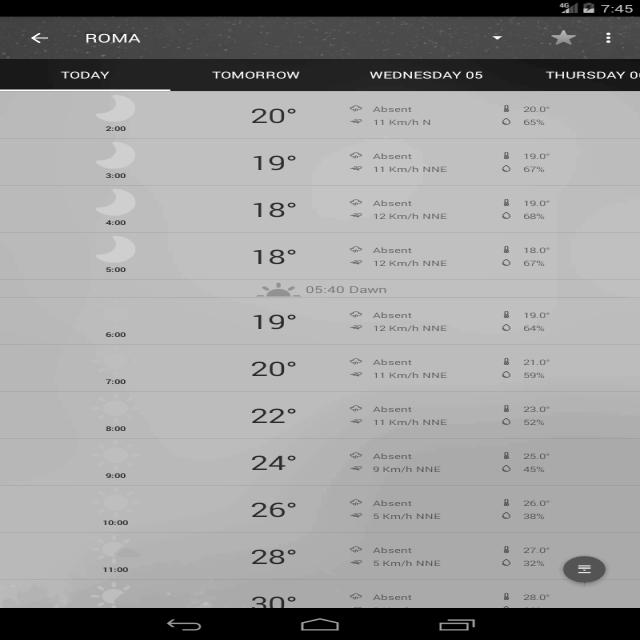ImageButton: (562, 555, 610, 583), (546, 27, 586, 49), (23, 30, 58, 47), (597, 30, 620, 50)
ImageView: (84, 345, 147, 375), (90, 485, 143, 517), (90, 92, 142, 122), (90, 234, 142, 264)
TextView: (362, 66, 486, 88), (538, 66, 633, 85), (208, 69, 308, 87), (47, 66, 129, 85), (78, 29, 154, 49), (244, 308, 296, 334), (242, 102, 298, 126), (244, 449, 296, 473)
